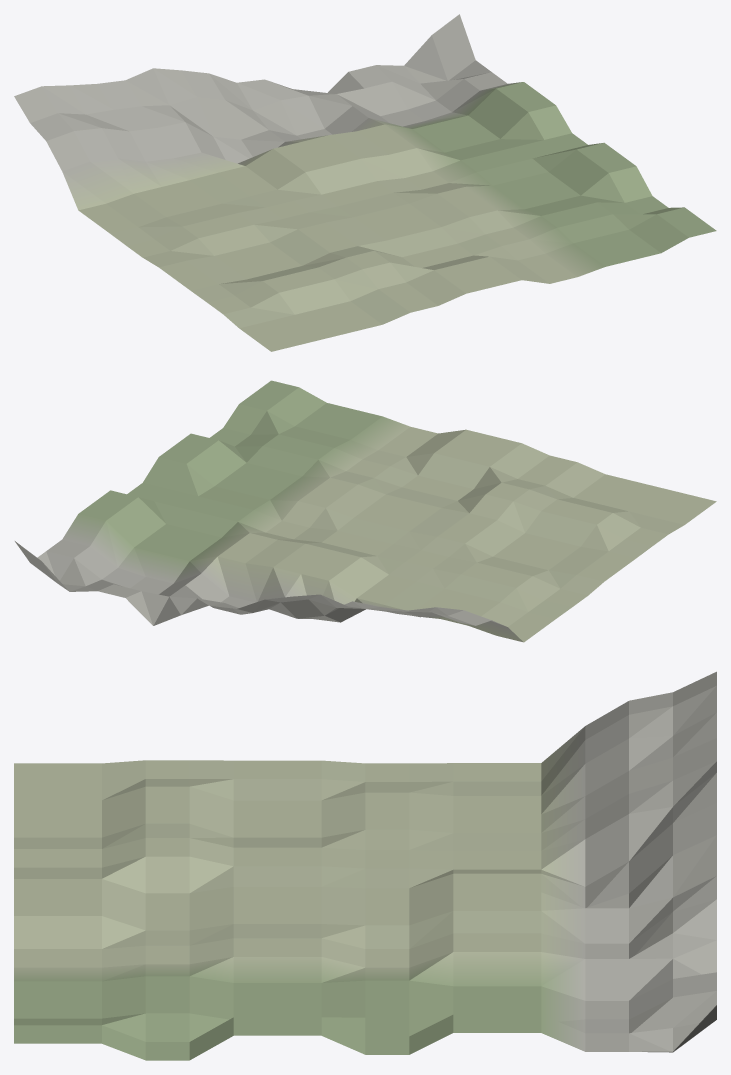
3 views of the same model, one above another, from view 1: azimuth 30°, elevation 25°; view 2: azimuth 150°, elevation 25°; view 3: azimuth 270°, elevation 25° (orthographic). The views are drawn at different scales.
Size of the model in its own units: 32 by 5.67 by 32.
